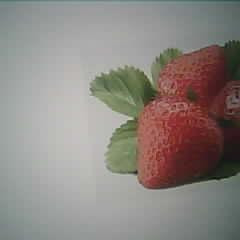straw-ripe: (135, 97, 223, 187)
